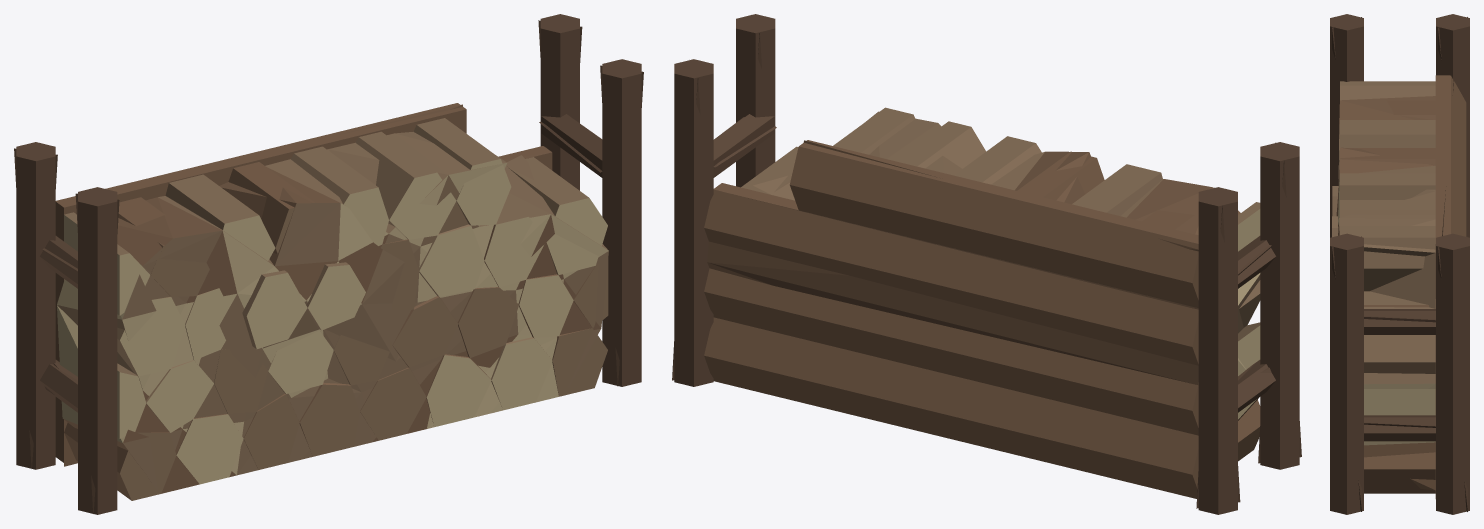
Rendered from pf_cordwood.glb.
3 views of the same model, side by side, from view 1: azimuth 30°, elevation 25°; view 2: azimuth 150°, elevation 25°; view 3: azimuth 270°, elevation 25° (orthographic). The views are drawn at different scales.
Visible parts, largest first — view 1: body, body__far; view 2: body, body__far; view 3: body, body__far.
Part boxes in pixels (<box>): body: <box>16,14,641,514</box>; body__far: <box>14,20,643,513</box>; body: <box>674,14,1299,514</box>; body__far: <box>672,33,1301,508</box>; body: <box>1330,14,1469,514</box>; body__far: <box>1332,17,1467,511</box>.
Bounding box in the file's own units: 1 × 0.5294 × 0.25.
